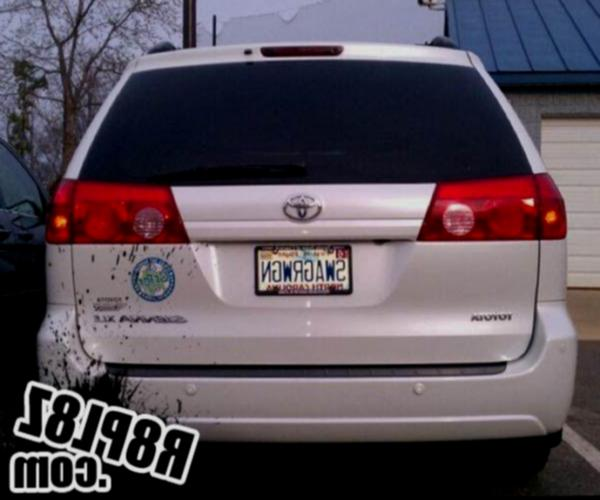License_Plate: (241, 238, 360, 307)
